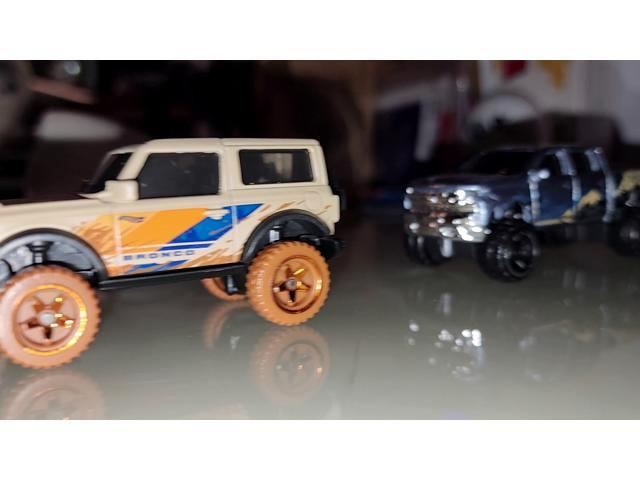toy-car: (0, 135, 353, 371), (398, 140, 640, 285)
